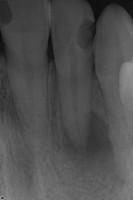Furcation Involvement: (63, 111, 114, 171)
